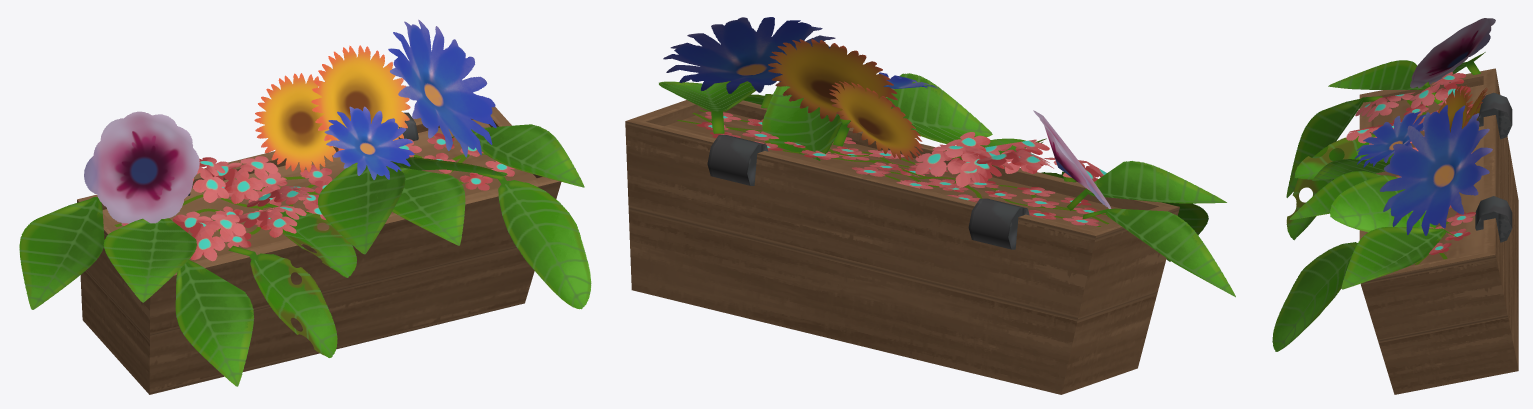
The model's file is sm_flowerBox_1.fbx.
3 views of the same model, side by side, from view 1: azimuth 30°, elevation 25°; view 2: azimuth 150°, elevation 25°; view 3: azimuth 270°, elevation 25° (orthographic). The views are drawn at different scales.
Visible parts, largest first — view 1: sm_flowerBox_1; view 2: sm_flowerBox_1; view 3: sm_flowerBox_1.
Boxes of the visible parts, x1=… form: sm_flowerBox_1: x1=19, y1=19, x2=591, y2=394; sm_flowerBox_1: x1=625, y1=17, x2=1235, y2=394; sm_flowerBox_1: x1=1272, y1=18, x2=1518, y2=394.
Bounding box in the file's own units: 194 × 97.67 × 87.19.
Materials: 2 (2 with a texture image).
